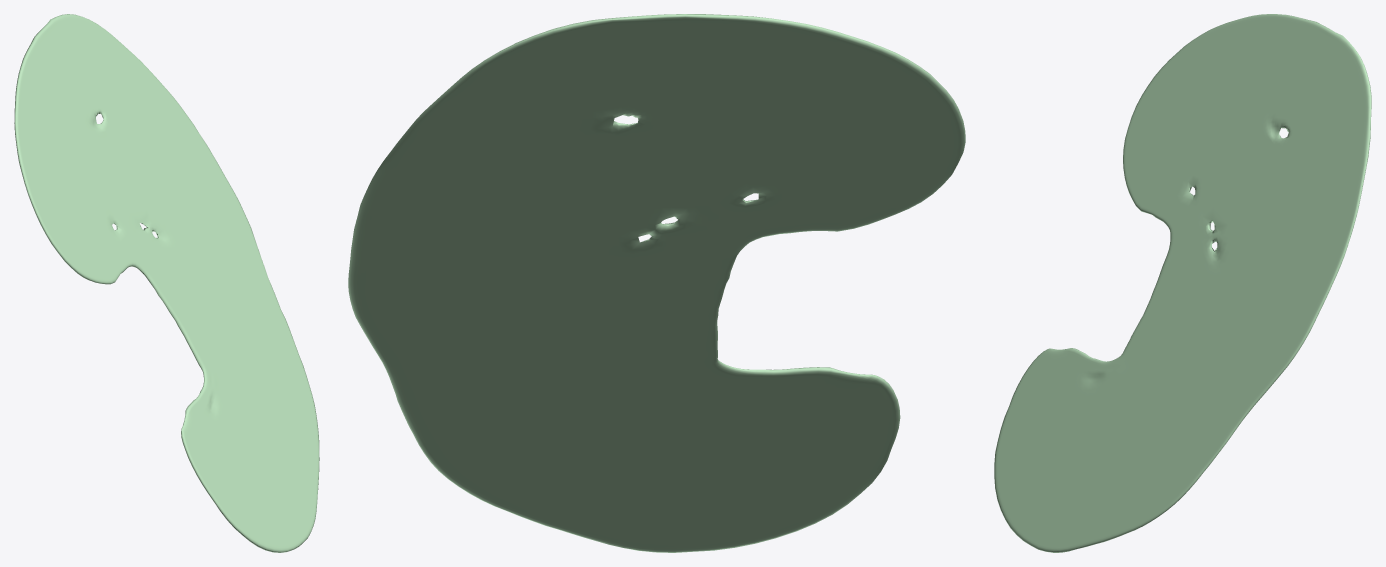
File: VHM_Kidney_L_Extraction_Site.glb
The picture shows the model from 3 angles, left to right: view 1: azimuth 30°, elevation 25°; view 2: azimuth 150°, elevation 25°; view 3: azimuth 270°, elevation 25°; orthographic projection. The views are drawn at different scales.
Visible parts, largest first — view 1: VHM_Kidney_L_Extraction_Site; view 2: VHM_Kidney_L_Extraction_Site; view 3: VHM_Kidney_L_Extraction_Site.
Boxes of the visible parts, x1=… form: VHM_Kidney_L_Extraction_Site: x1=14, y1=14, x2=319, y2=552; VHM_Kidney_L_Extraction_Site: x1=348, y1=14, x2=965, y2=552; VHM_Kidney_L_Extraction_Site: x1=994, y1=14, x2=1371, y2=552.
Size of the model in its own units: 0.0874 by 0.126 by 0.0942.
